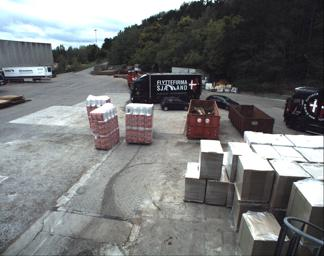rockwool_batts: (89, 104, 119, 147), (125, 100, 152, 146), (86, 94, 111, 115)
